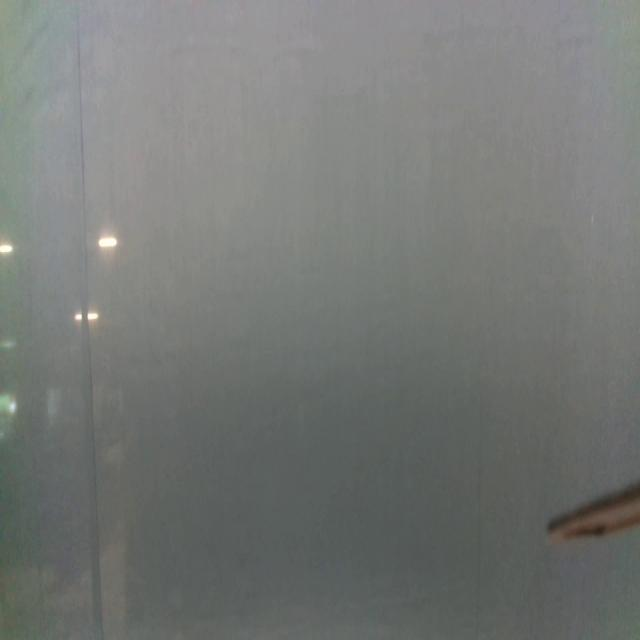crease: (76, 0, 106, 640)
hole: (588, 211, 596, 228)
